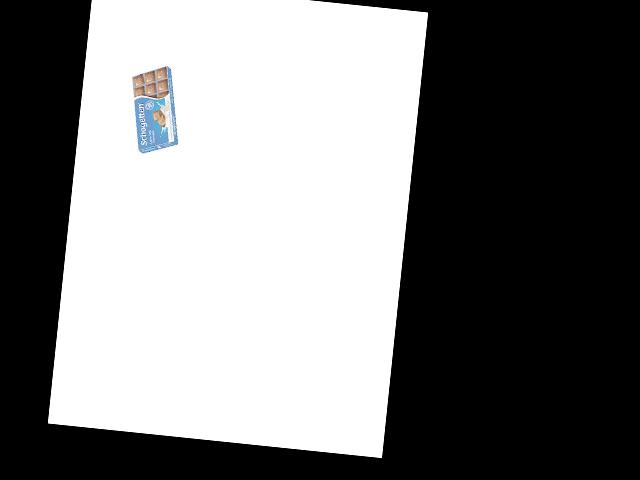chocolate: (124, 61, 179, 158)
